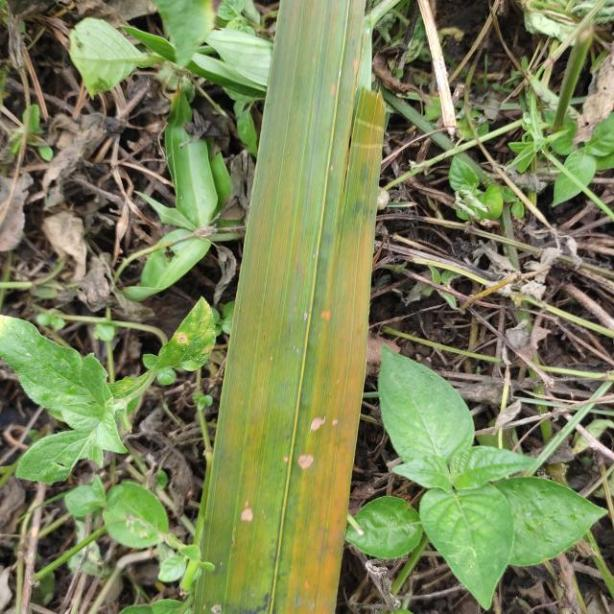Megnesium: (190, 0, 389, 614)
